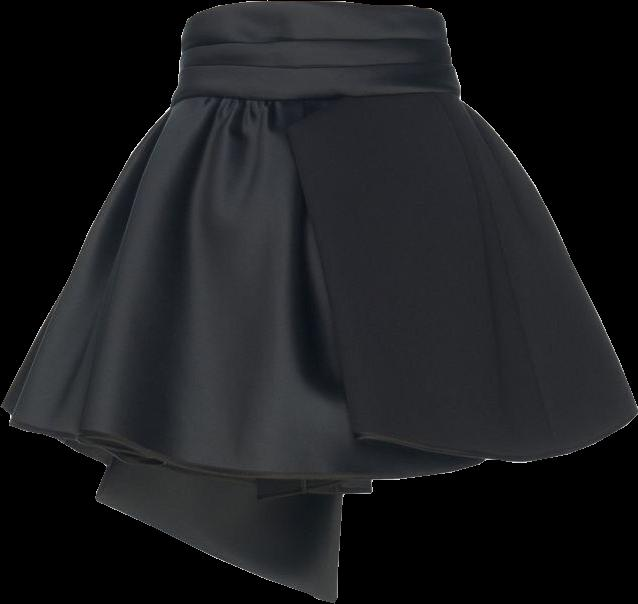Hemline: (283, 99, 637, 462), (0, 401, 484, 479)
Waistline: (182, 0, 442, 26), (170, 88, 464, 105)
